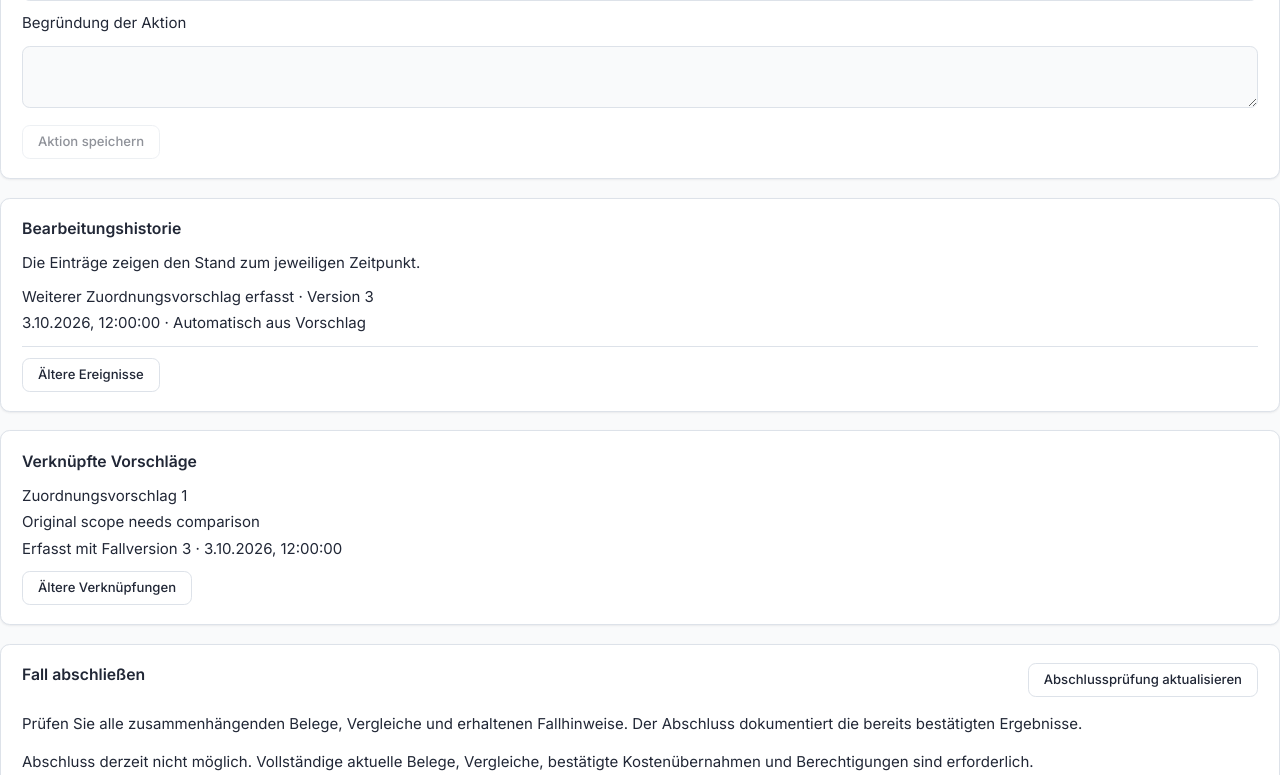
Test: paginates histories and clears all evidence on denied continuation
(page scrolled)
Step 1. Click the button "Ältere Ereignisse" → click(91, 375), box [22,358,160,392]
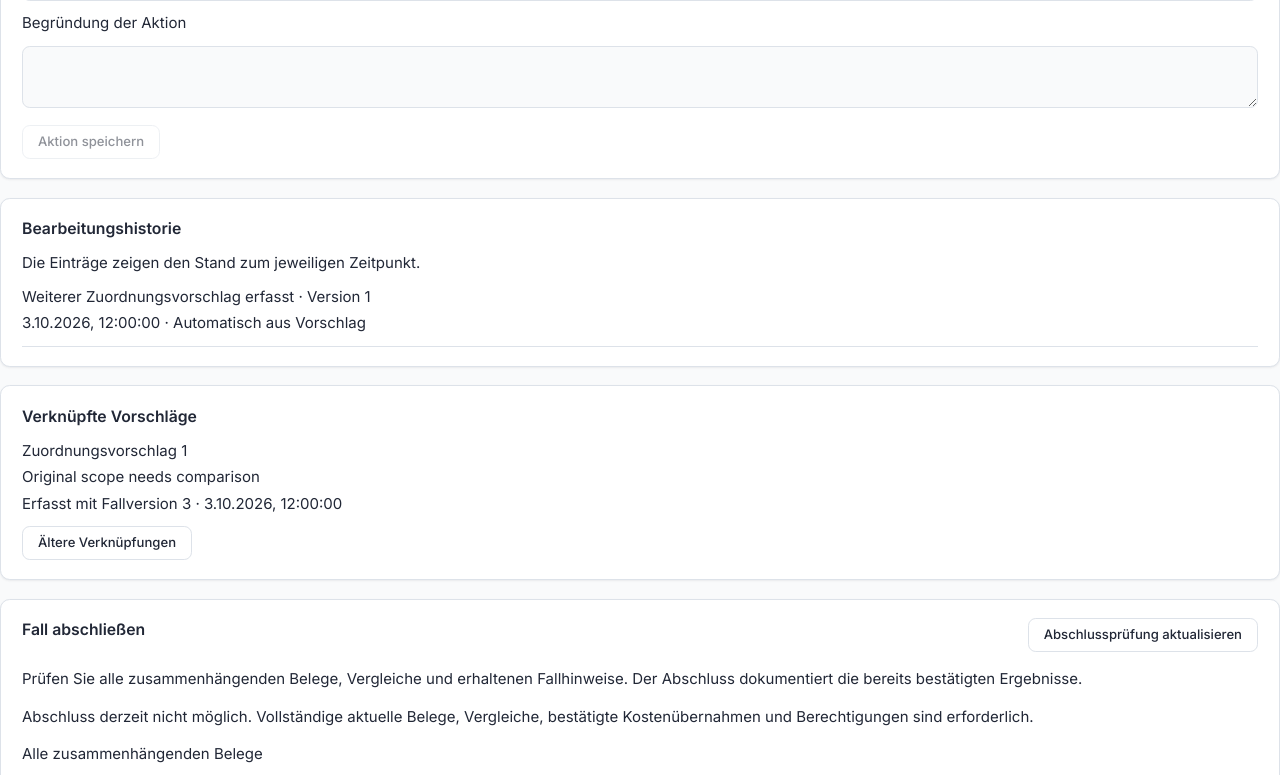
Expected: the heading "Weiterer Zuordnungsvorschlag erfasst · Version 1" is shown, [22,287,371,306]
Expected: the heading "Weiterer Zuordnungsvorschlag erfasst · Version 3" is gone
Step 2. Click the button "Ältere Verknüpfungen" → click(107, 543), box [22,526,192,560]
(page scrolled)
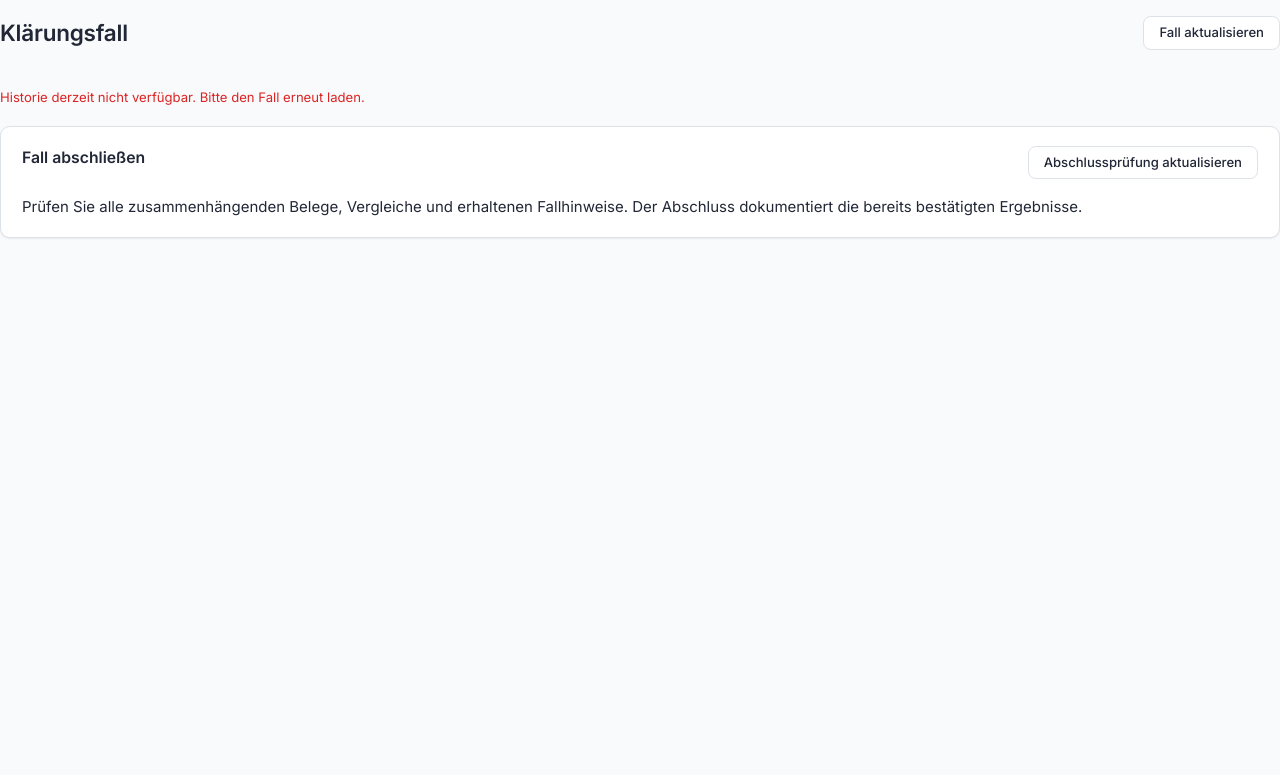
Expected: the text "Historie derzeit nicht verfügbar. Bitte den Fall erneut laden." is shown, [0,88,365,104]
